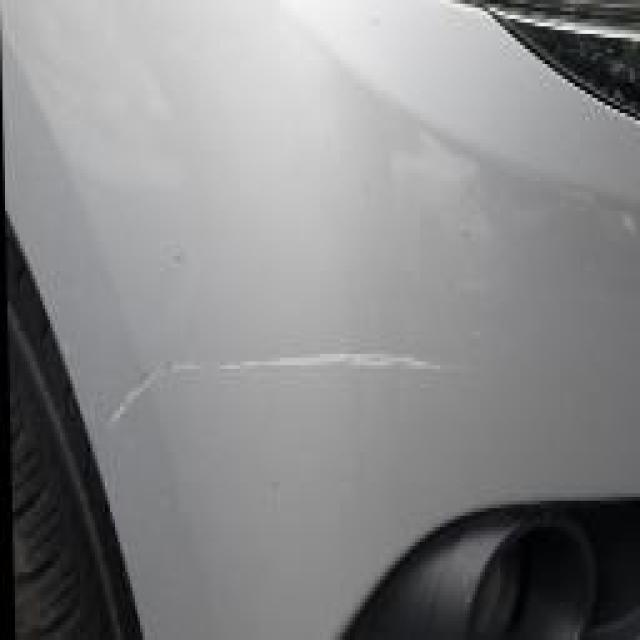Bumper: (98, 290, 482, 504)
